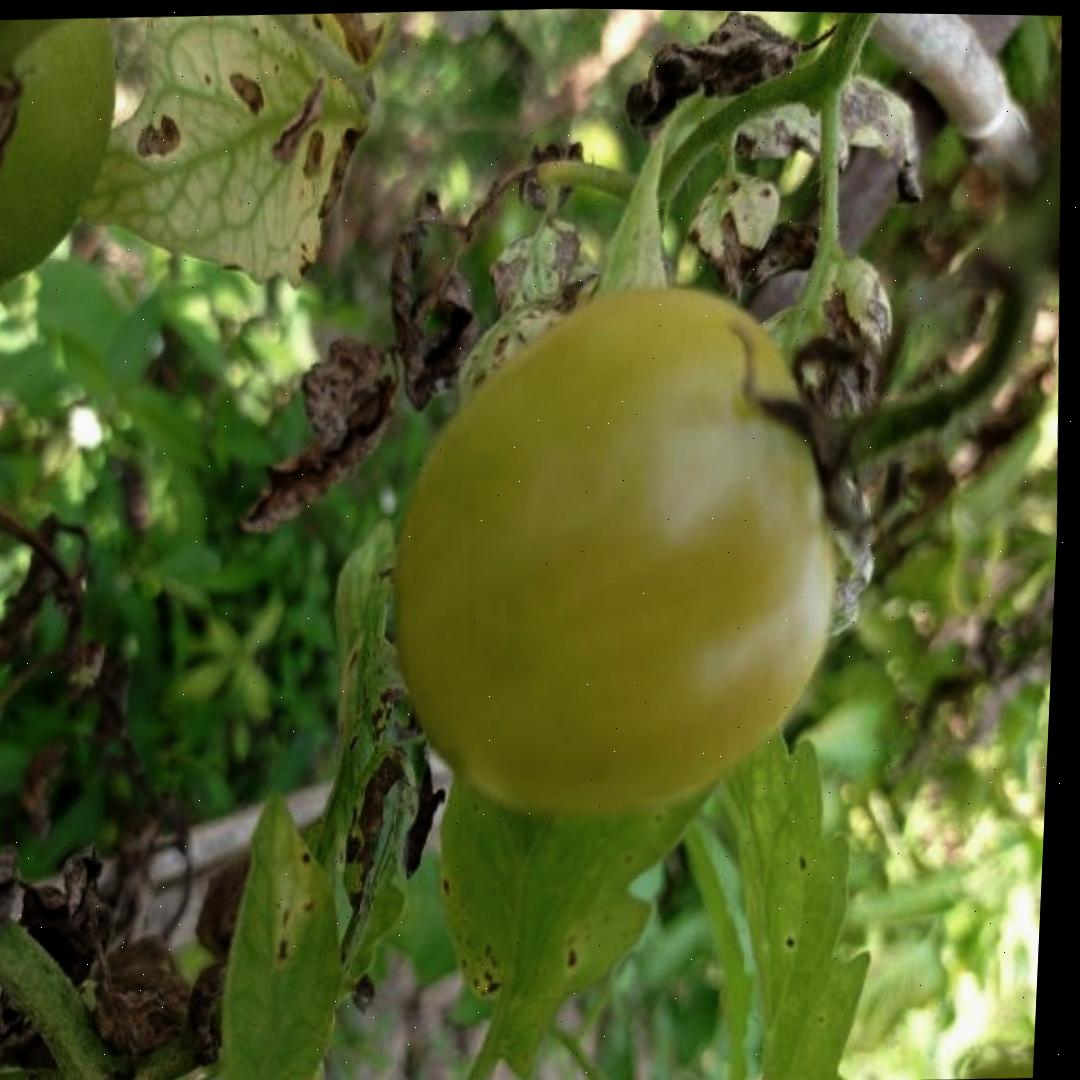setengah_matang: (367, 271, 862, 831)
